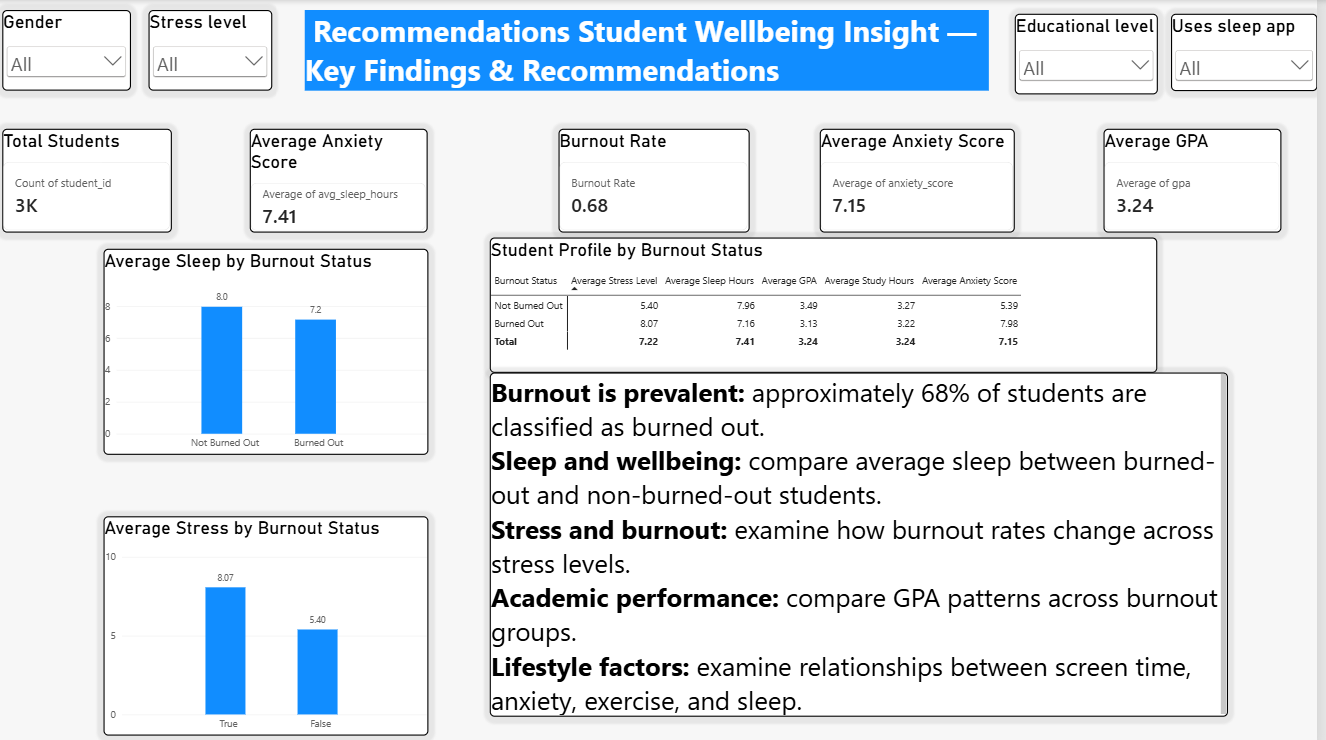

The page's visual inventory and layout, read from the dashboard file:
{"tool":"powerbi","page":{"name":"Insights & Recommendations","canvas":[1920,1080],"ordinal":5},"visuals":[{"type":"slicer","title":"Gender","fields":{"Values":["student_sleep.gender","student_sleep.education_level"]},"box":[16.7,14.3,186.1,116.9],"z":0},{"type":"slicer","title":"Stress level","fields":{"Values":["student_sleep.stress_level","student_sleep.uses_sleep_app"]},"box":[227.5,15,178.9,116.9],"z":1000},{"type":"slicer","title":"Educational level","fields":{"Values":["student_sleep.education_level"]},"box":[1482.5,20,207.6,116.9],"z":2000},{"type":"slicer","title":"Uses sleep app","fields":{"Values":["student_sleep.uses_sleep_app"]},"box":[1707.7,19.1,212.3,112.1],"z":3000},{"type":"textbox","box":[453.3,14.3,990.2,116.9],"z":4000},{"type":"cardVisual","title":"Total Students","fields":{"Data":["CountNonNull(student_sleep.student_id)"]},"box":[16.7,186.1,245.7,150.3],"z":5000},{"type":"cardVisual","title":"Burnout Rate","fields":{"Data":["measure.Burnout Rate"]},"box":[820.8,186.1,276.8,150.3],"z":6000},{"type":"cardVisual","title":"Average GPA","fields":{"Data":["Avg(student_sleep.gpa)"]},"box":[1610.5,186.1,257.5,150],"z":7000},{"type":"cardVisual","title":"Average Anxiety Score","fields":{"Data":["Avg(student_sleep.anxiety_score)"]},"box":[1200.1,186.1,282.5,150],"z":8000},{"type":"cardVisual","title":"Average Anxiety Score","fields":{"Data":["Avg(student_sleep.avg_sleep_hours)"]},"box":[374.6,186.1,257.5,150],"z":9000},{"type":"clusteredColumnChart","title":"Average Sleep by Burnout Status","fields":{"Y":["Avg(student_sleep.avg_sleep_hours)"],"Category":["student_sleep.Burnout Status"]},"box":[162.2,360.3,470,298.2],"z":10000},{"type":"clusteredColumnChart","title":"Average Stress by Burnout Status","fields":{"Category":["student_sleep.feels_burned_out"],"Y":["Avg(student_sleep.stress_level)"]},"box":[162.2,746.8,470,317.3],"z":11000},{"type":"pivotTable","title":"Student Profile by Burnout Status","fields":{"Rows":["student_sleep.Burnout Status"],"Values":["measure.Average Stress Level","measure.Average Sleep Hours","measure.Average GPA","measure.Average Study Hours","measure.Average Anxiety Score"]},"box":[722.9,343.6,966.3,195.6],"z":12000},{"type":"textbox","box":[12,360,150,298],"z":13000},{"type":"textbox","box":[12,747,150,317],"z":14000},{"type":"textbox","box":[722.9,539.2,1068.9,498.7],"z":15000}]}

Visuals, with their boxes in screenshot pixels (x1, y1, x2, y2), scaled from the page's 1920x1080 canvas onto the 1326x740 screenshot:
"Gender" slicer: <bbox>12, 10, 140, 90</bbox>
"Stress level" slicer: <bbox>157, 10, 281, 90</bbox>
"Educational level" slicer: <bbox>1024, 14, 1167, 94</bbox>
"Uses sleep app" slicer: <bbox>1179, 13, 1325, 90</bbox>
textbox: <bbox>313, 10, 997, 90</bbox>
"Total Students" cardVisual: <bbox>12, 128, 181, 230</bbox>
"Burnout Rate" cardVisual: <bbox>567, 128, 758, 230</bbox>
"Average GPA" cardVisual: <bbox>1112, 128, 1290, 230</bbox>
"Average Anxiety Score" cardVisual: <bbox>829, 128, 1024, 230</bbox>
"Average Anxiety Score" cardVisual: <bbox>259, 128, 437, 230</bbox>
"Average Sleep by Burnout Status" clusteredColumnChart: <bbox>112, 247, 437, 451</bbox>
"Average Stress by Burnout Status" clusteredColumnChart: <bbox>112, 512, 437, 729</bbox>
"Student Profile by Burnout Status" pivotTable: <bbox>499, 235, 1167, 369</bbox>
textbox: <bbox>8, 247, 112, 451</bbox>
textbox: <bbox>8, 512, 112, 729</bbox>
textbox: <bbox>499, 369, 1237, 711</bbox>
